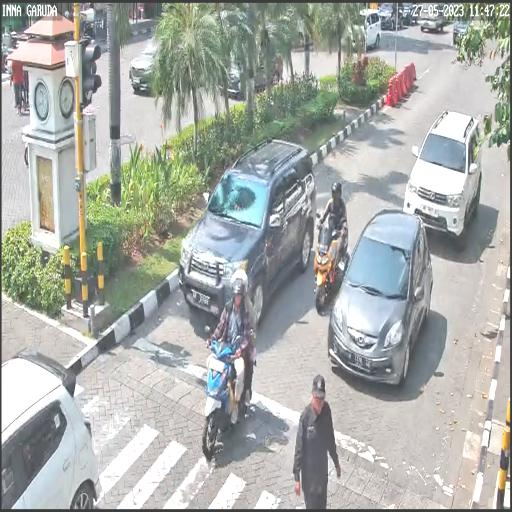mobil: (178, 135, 318, 320), (329, 210, 432, 387), (403, 111, 481, 240)
motor: (203, 322, 256, 463), (314, 210, 348, 315)
